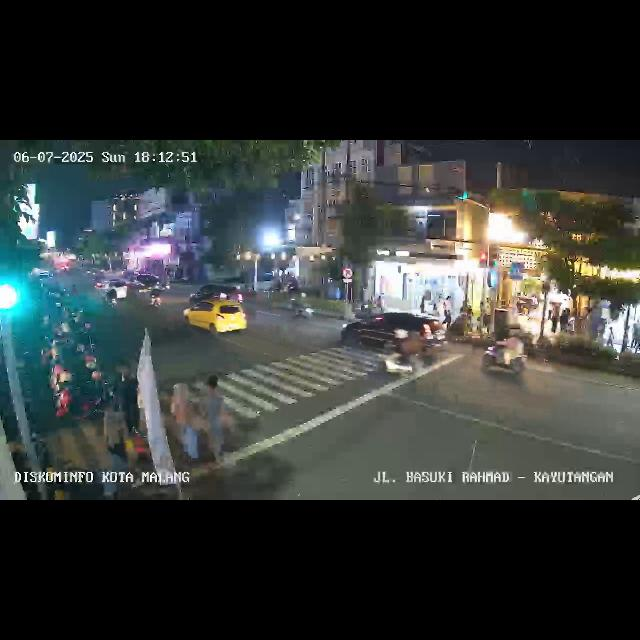car: (338, 312, 444, 376), (184, 292, 248, 338)
motorcycle: (481, 330, 529, 382), (290, 290, 314, 320), (149, 283, 163, 311)
person: (162, 380, 195, 480), (202, 375, 230, 469), (114, 361, 138, 435), (549, 302, 559, 336), (442, 296, 452, 326), (560, 305, 570, 335), (604, 322, 614, 350), (632, 320, 640, 352), (418, 292, 426, 312)
